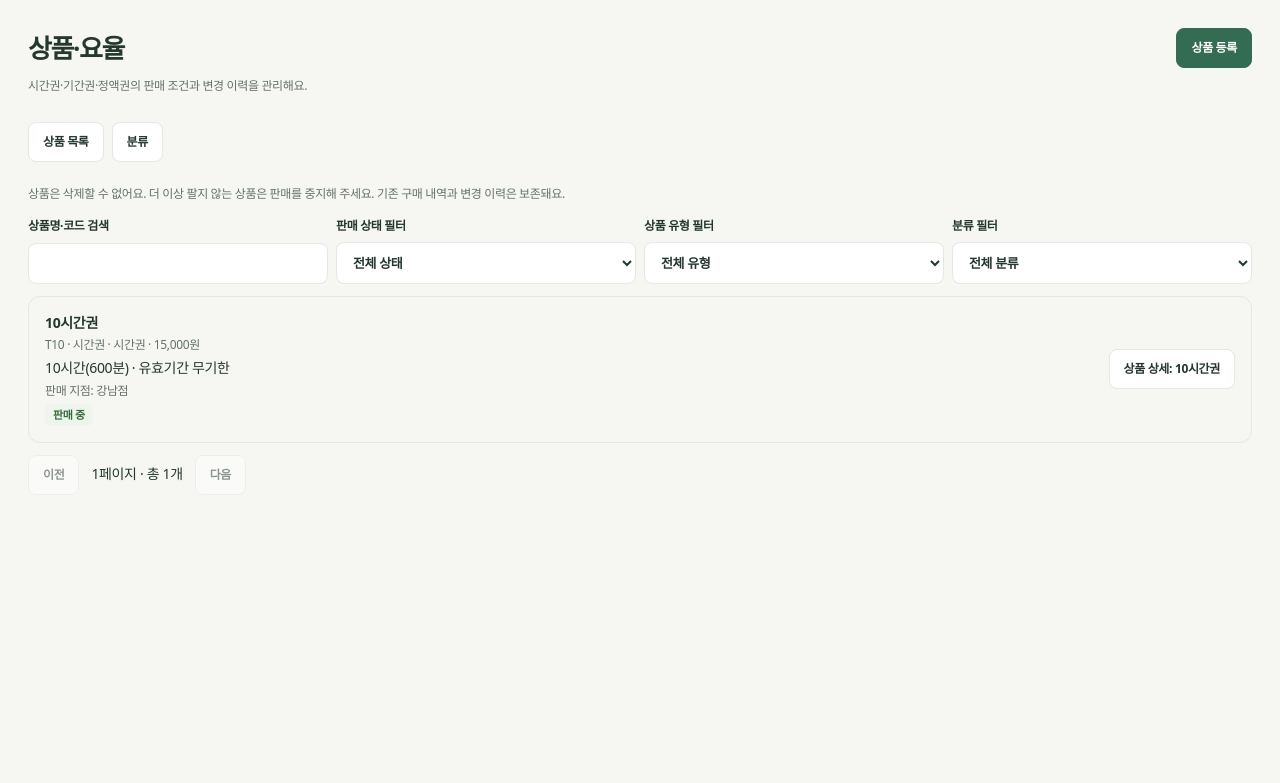
Test case: returns the branch selection to the saved set when the change is rejected
The image size is (1280, 783).
What coordinates should you click on to do the following:
click the button "상품 상세: 10시간권"
I would click on:
 (1172, 369)
Its box is [1108,349,1235,389].
(page scrolled)
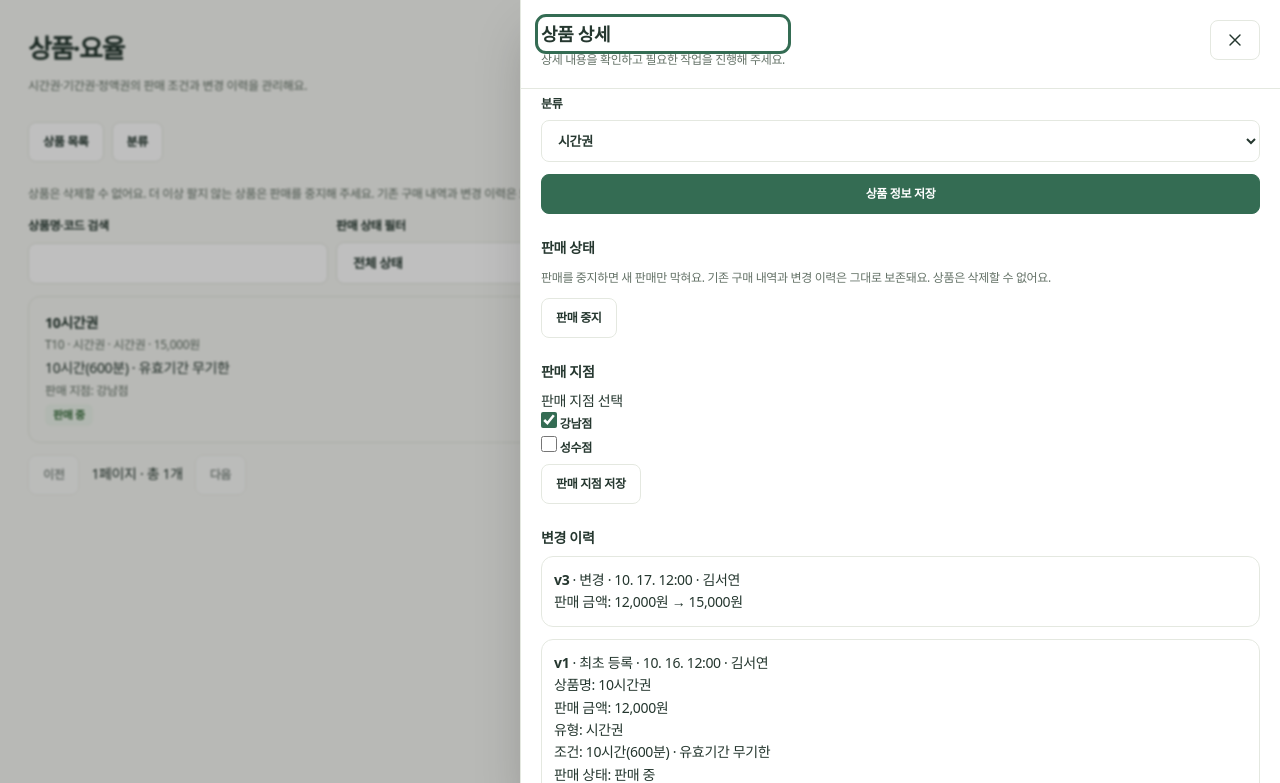
What coordinates should you click on to do the following:
click the checkbox labelled "성수점"
I would click on:
 (549, 444)
Its box is [541,436,557,452].
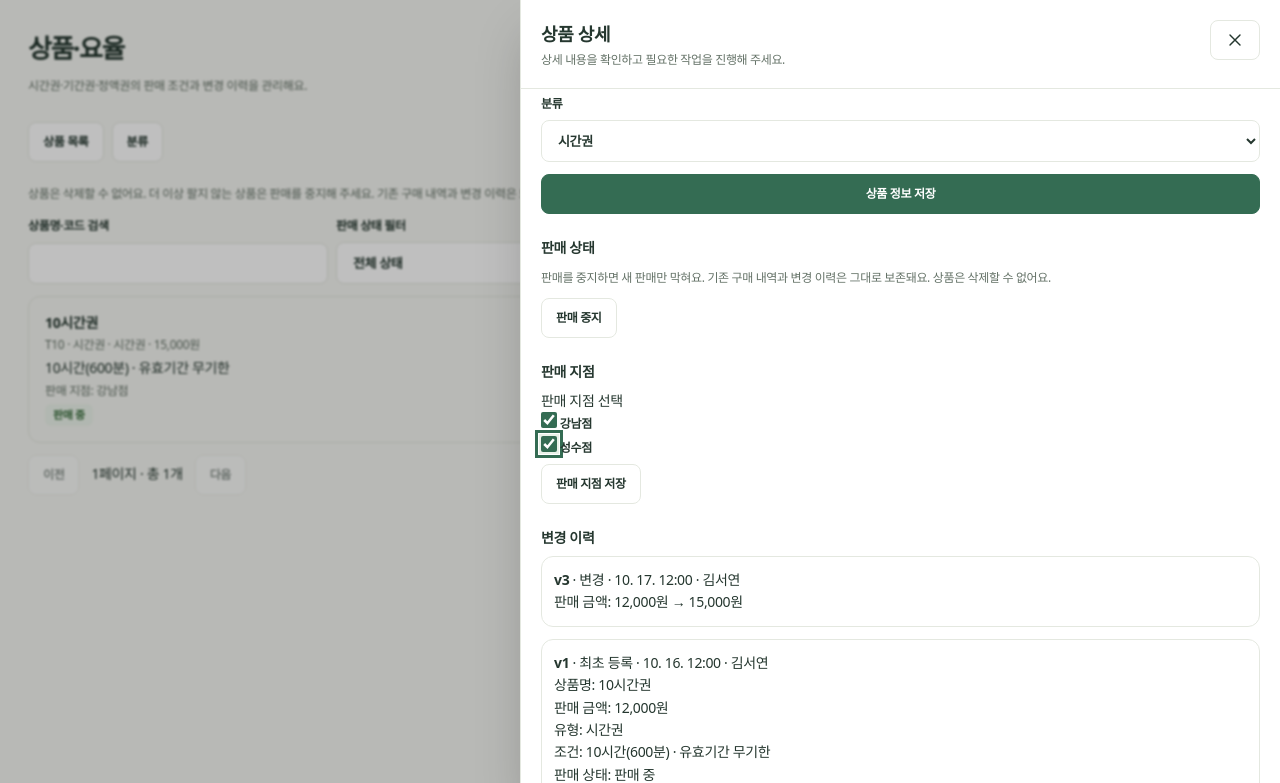
expect the checkbox labelled "성수점" is checked: met, box [541,436,557,452]
What coordinates should you click on to do the following:
click the button "판매 지점 저장"
I would click on:
 (591, 484)
Its box is [541,464,641,504].
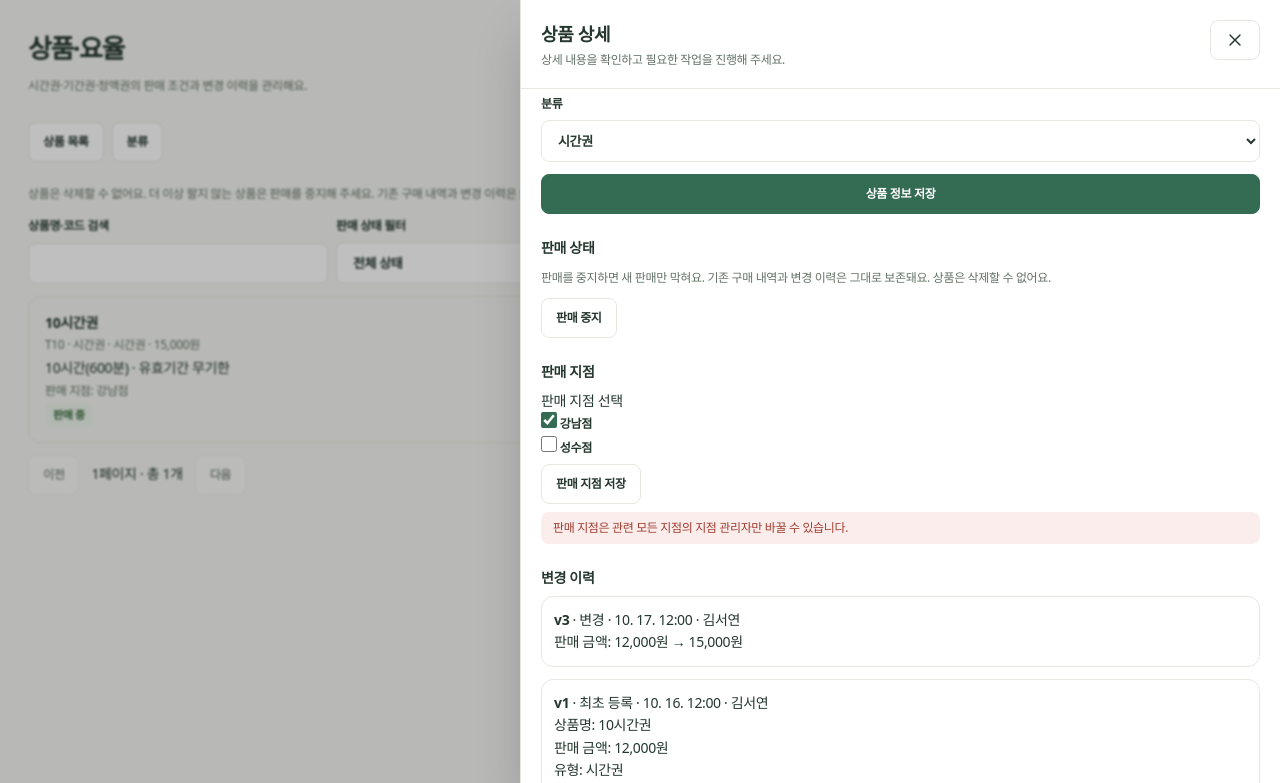
expect the checkbox labelled "성수점" is not checked: met, box [541,436,557,452]
expect the checkbox labelled "강남점" is checked: met, box [541,412,557,428]
expect the message shows "지점 관리자만": met, box [553,519,848,536]
